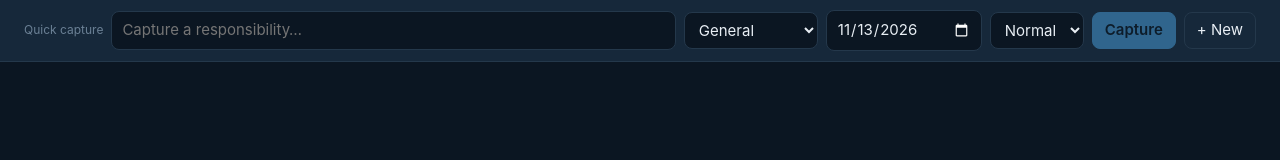
Test case: QuickCapture › submits a trimmed title with the selected fields and clears the input
Type "  Call the machine shop  " into the field with placeholder "Capture a responsibility…" at (394, 30), box x1=111 y1=11 x2=676 y2=50
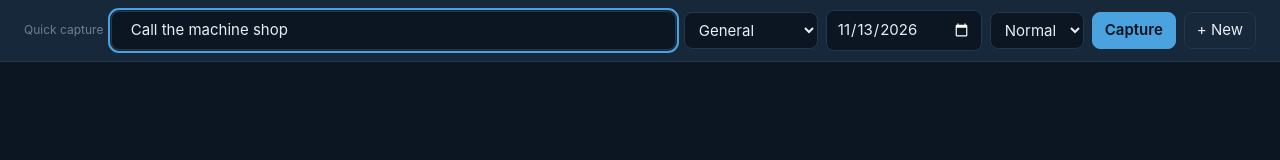
Select "Maintenance" in the dropdown named "Category" at (751, 30), box x1=684 y1=12 x2=818 y2=49
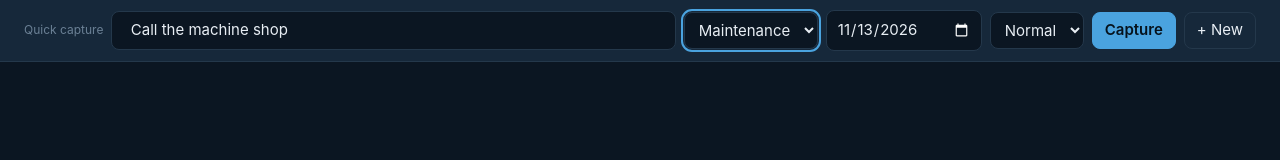
Select "High" in the dropdown named "Priority" at (1037, 30), box x1=990 y1=12 x2=1084 y2=49
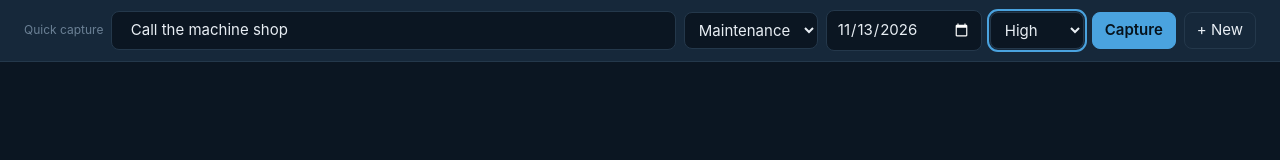
Type "2026-11-20" into the date field named "Due date" at (904, 30), box x1=826 y1=10 x2=982 y2=50
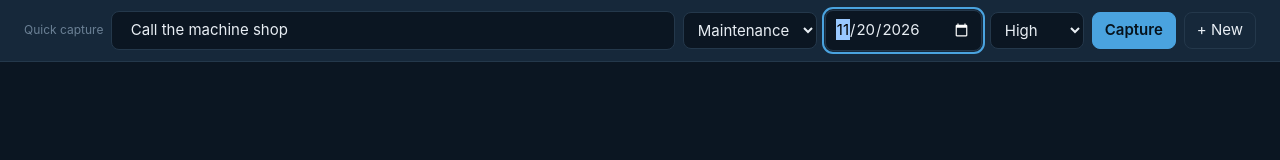
Click the button "Capture" at (1134, 30), box x1=1092 y1=12 x2=1176 y2=48
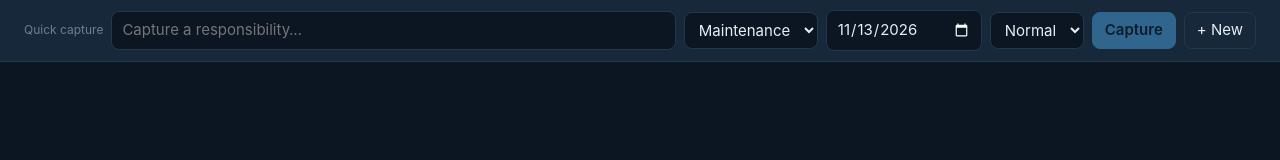
Expected: the field with placeholder "Capture a responsibility…" is empty, x1=111 y1=11 x2=676 y2=50
